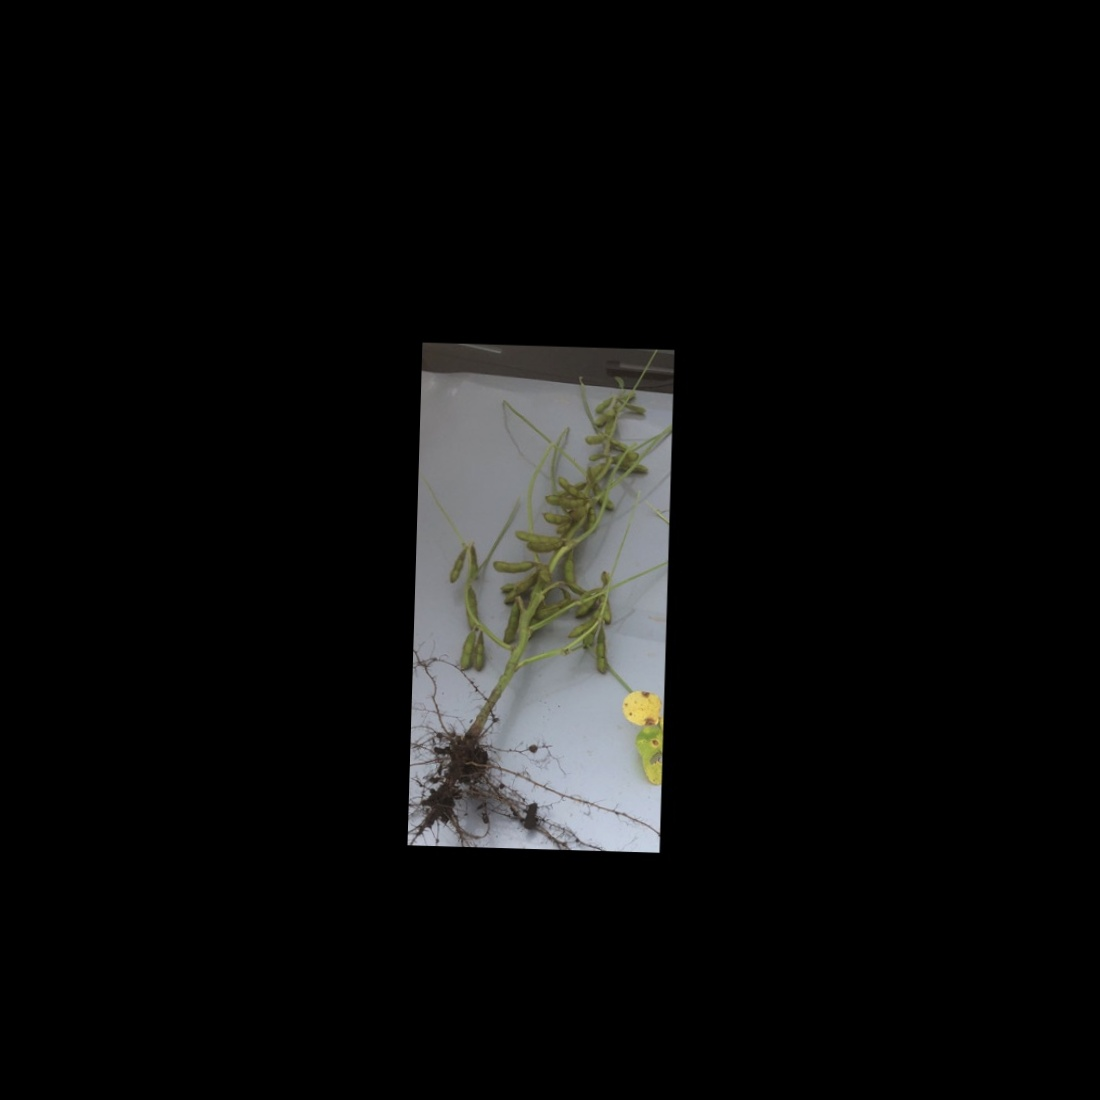pod: (442, 548, 466, 589), (499, 600, 521, 645), (490, 555, 536, 576), (455, 627, 476, 672), (593, 628, 610, 675), (473, 629, 488, 673), (565, 545, 579, 584), (582, 430, 608, 447), (592, 394, 612, 414), (540, 512, 572, 524), (587, 449, 609, 461)
soy: (430, 366, 658, 829)
